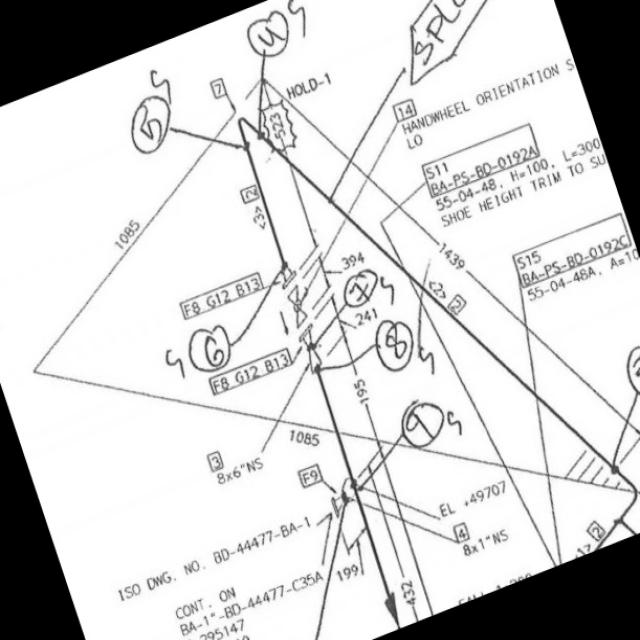Item number: (419, 116, 542, 200), (509, 207, 633, 290), (205, 341, 295, 397), (177, 268, 265, 322), (391, 94, 419, 123), (297, 459, 323, 490), (584, 515, 607, 544), (204, 447, 227, 475), (445, 291, 469, 317), (451, 517, 473, 545), (207, 73, 227, 99), (238, 182, 259, 206)
Measrement: (282, 95, 632, 434), (364, 457, 420, 617), (212, 453, 266, 487), (107, 212, 146, 255), (334, 554, 368, 586)
Pipeline: (238, 117, 554, 411)
Symbol: (294, 323, 327, 375), (232, 107, 265, 155), (271, 258, 300, 292)
Weld number: (122, 85, 177, 159), (394, 393, 451, 451), (182, 317, 234, 376), (367, 314, 416, 376), (241, 8, 295, 64), (339, 263, 384, 312), (620, 339, 639, 399)
other: (109, 510, 313, 613), (395, 50, 576, 148), (429, 133, 608, 231), (171, 560, 325, 639), (434, 474, 510, 523), (460, 520, 514, 560), (212, 452, 266, 487)
